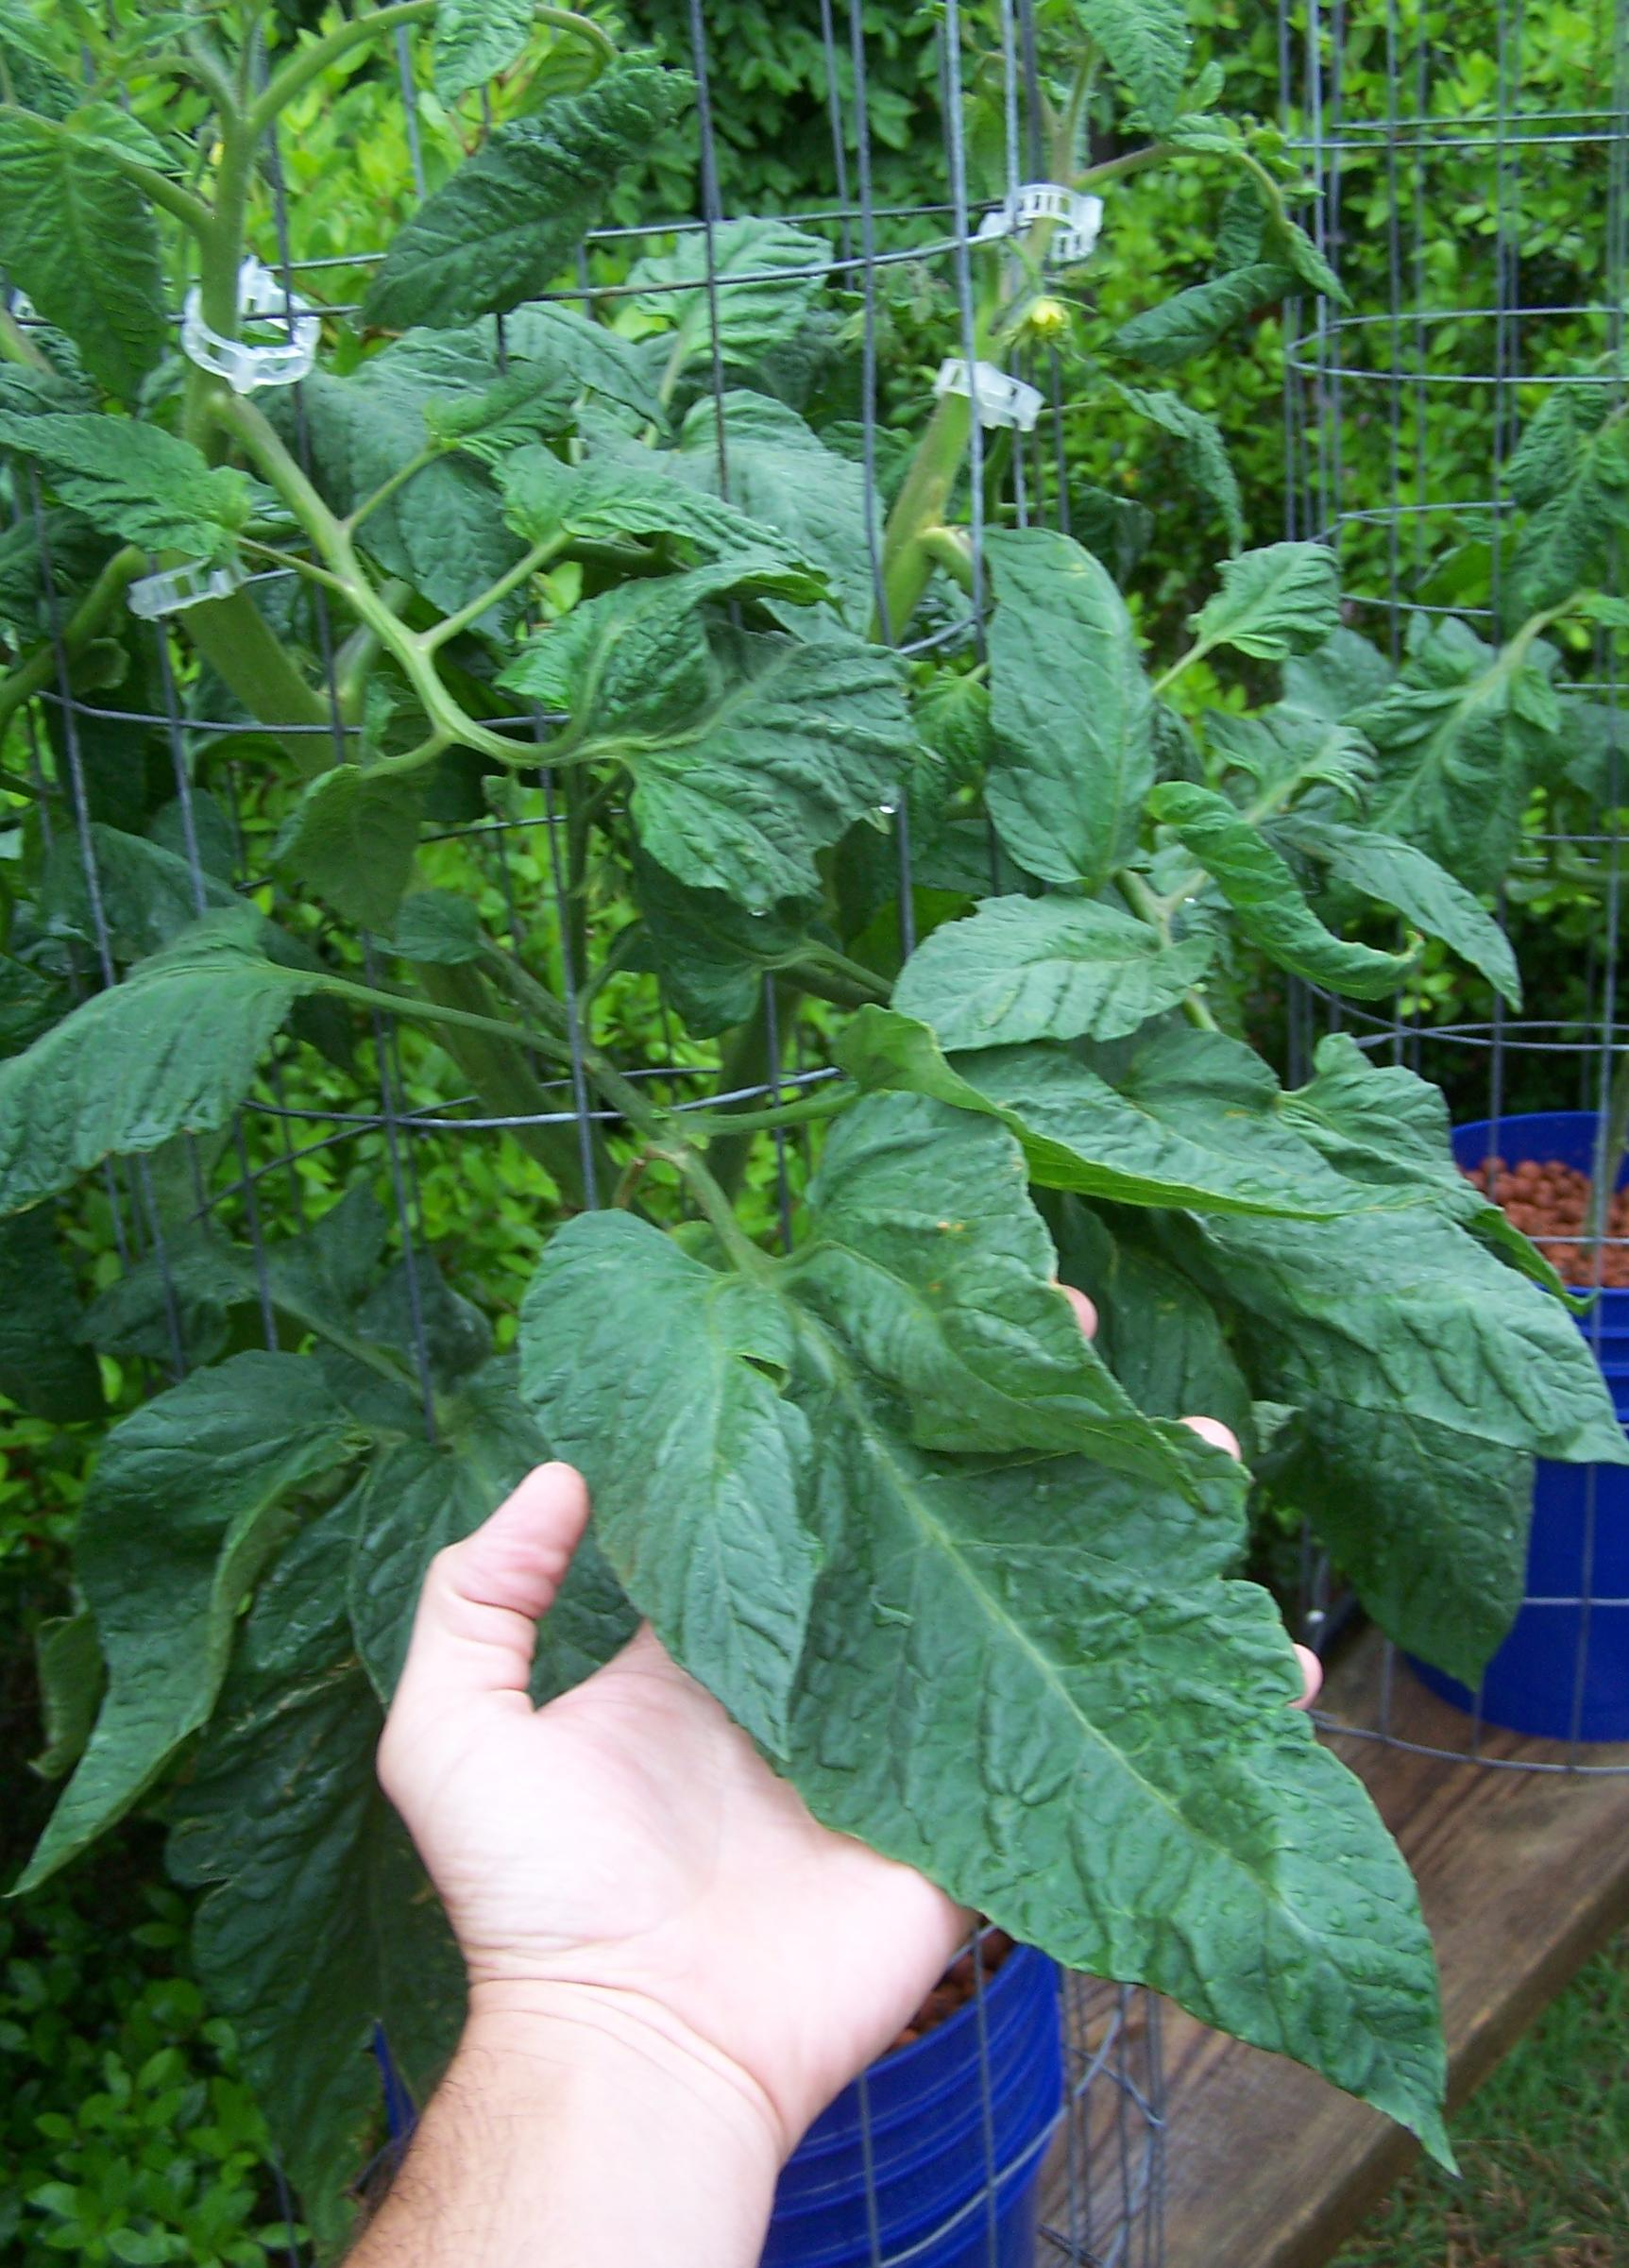Tomato leaf: (567, 1203, 1474, 2154), (1039, 1067, 1629, 1477), (947, 534, 1152, 930), (0, 940, 276, 1213), (606, 657, 900, 882), (852, 916, 1208, 1078), (0, 370, 257, 581), (1180, 530, 1361, 660)
